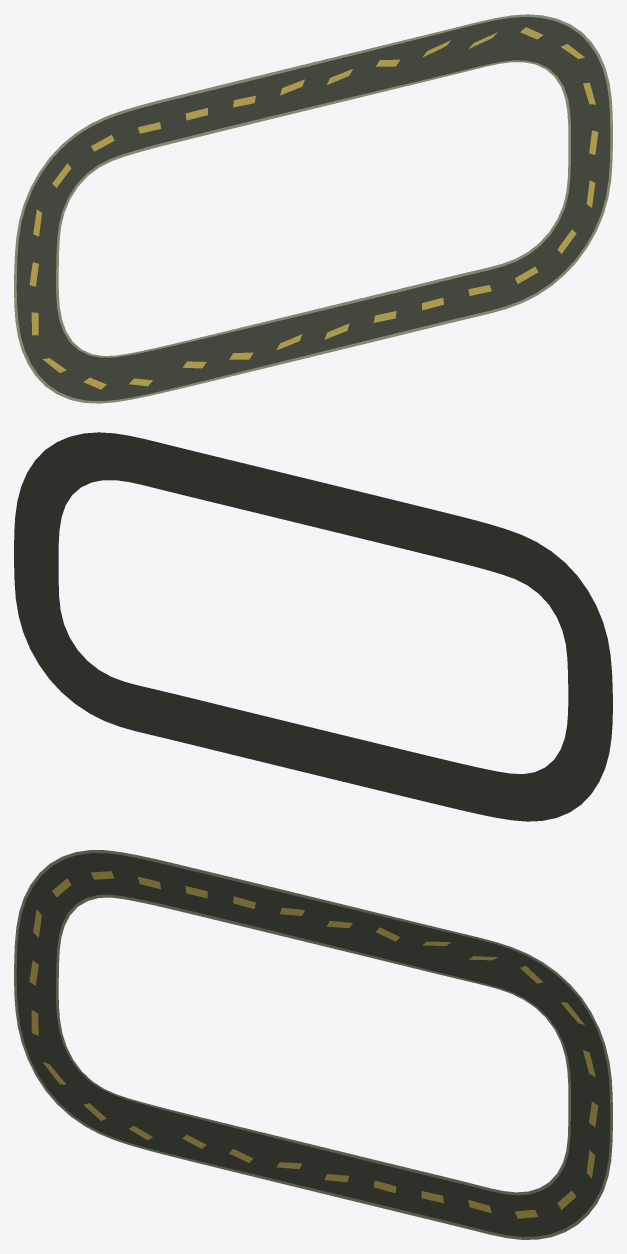
Rendered from track.obj.
3 renders of one model, top to bottom at view 1: azimuth 30°, elevation 25°; view 2: azimuth 150°, elevation 25°; view 3: azimuth 330°, elevation 25°, orthographic.
Bounding box in the file's own units: 8.21 × 3.86 × 0.002.
